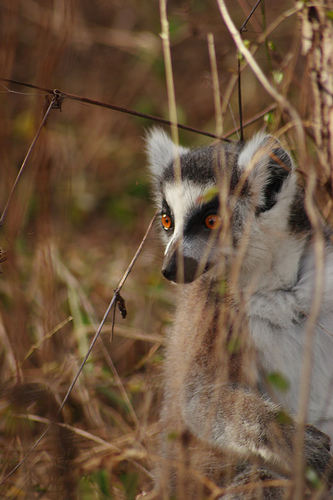cat: (143, 122, 331, 498)
